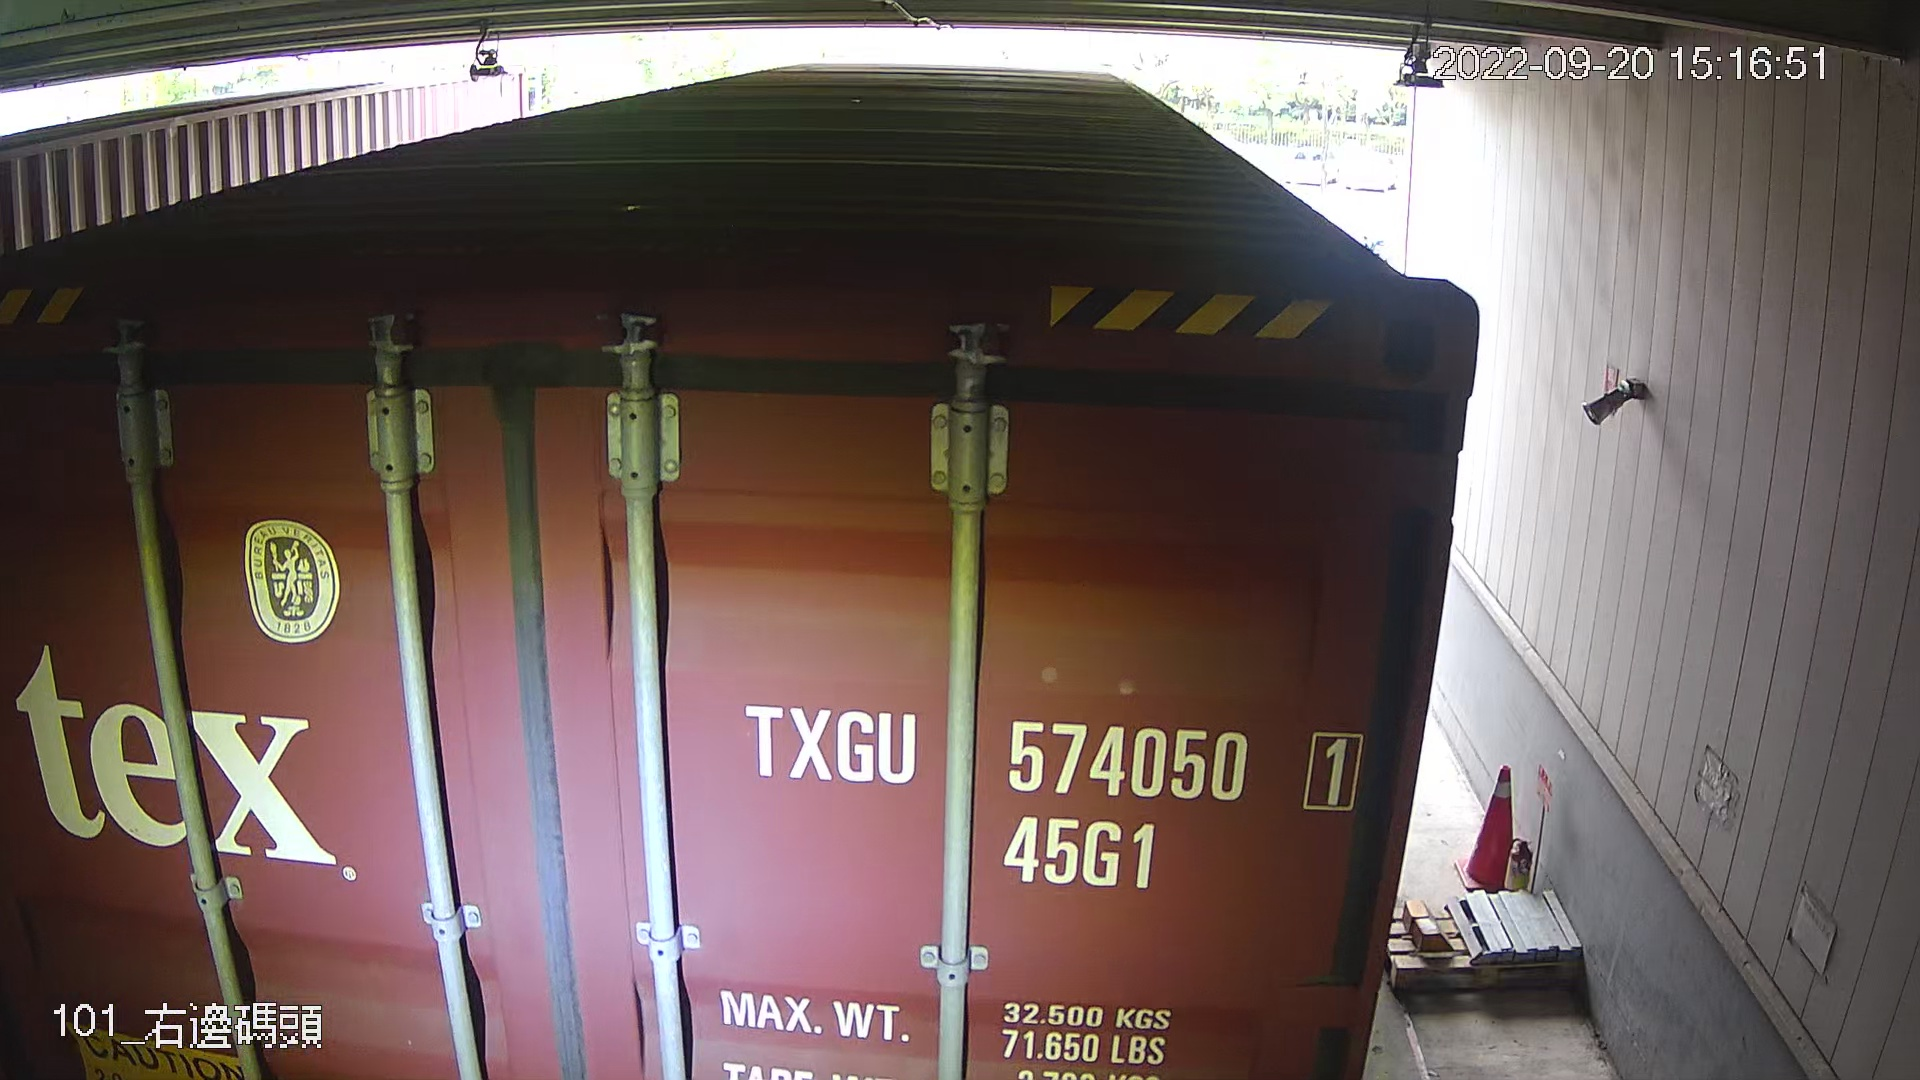container: (729, 684, 1375, 905)
